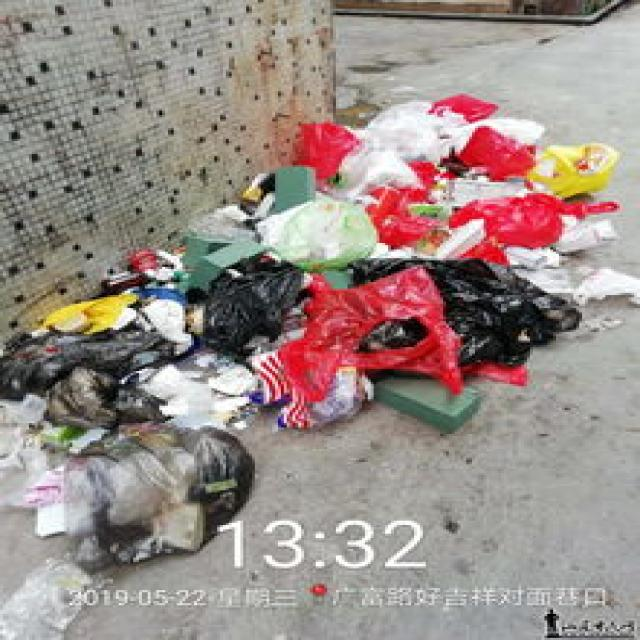garbage: (0, 91, 634, 638)
